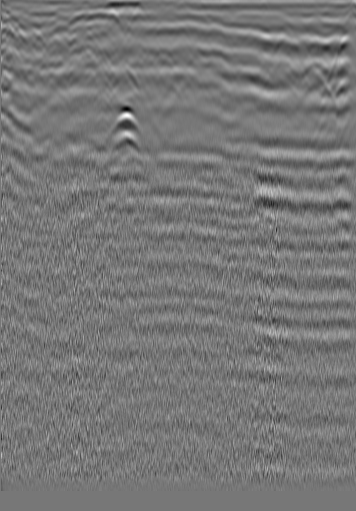가스: (102, 105, 149, 158)
상수: (24, 26, 44, 46)
오수: (299, 23, 319, 43)
우수: (166, 27, 186, 47)
